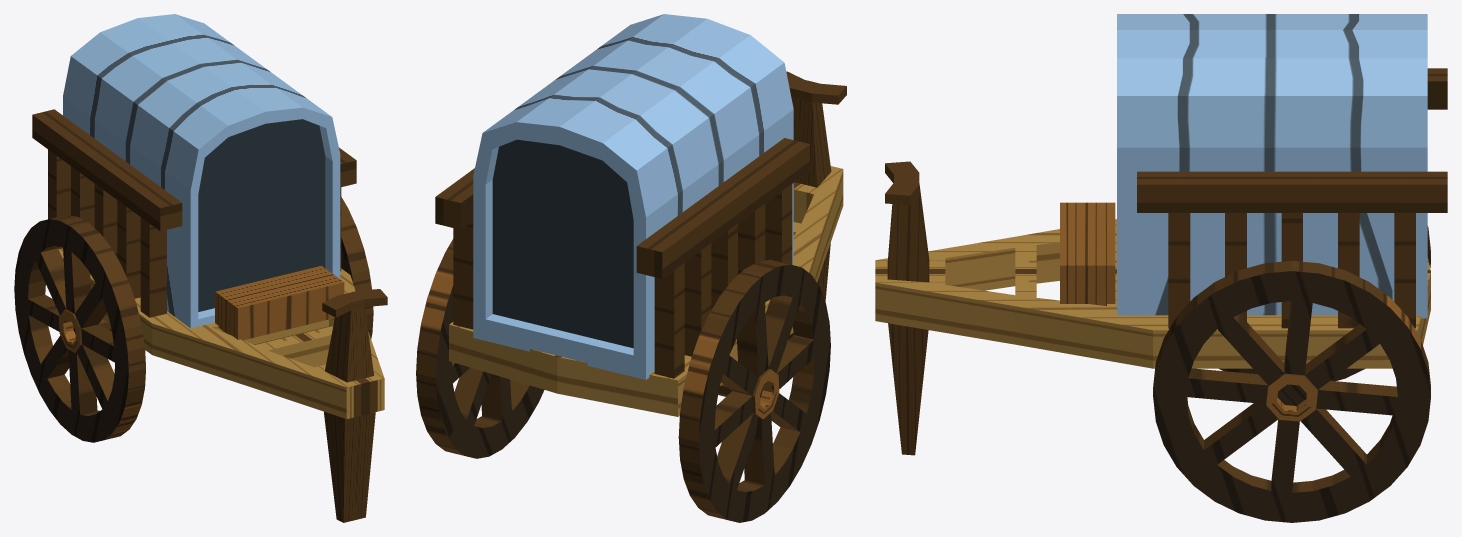
Rendered from Car2.fbx.
3 views of the same model, side by side, from view 1: azimuth 30°, elevation 25°; view 2: azimuth 150°, elevation 25°; view 3: azimuth 270°, elevation 25° (orthographic). The views are drawn at different scales.
Parts seen in each view (by area): view 1: loof, Wheel, Chassis, Chassis-Top, Cube; view 2: loof, Wheel, Chassis-Top, Chassis; view 3: loof, Wheel, Chassis, Chassis-Top, Cube.
Part boxes in pixels (x1,y1,x2,y2): loof: [63, 14, 340, 328]; Wheel: [14, 197, 373, 442]; Chassis: [58, 248, 387, 522]; Chassis-Top: [32, 109, 356, 317]; Cube: [215, 265, 344, 340]; loof: [473, 14, 793, 379]; Wheel: [416, 239, 830, 522]; Chassis-Top: [435, 138, 809, 378]; Chassis: [449, 71, 846, 416]; loof: [1117, 14, 1427, 318]; Wheel: [1153, 226, 1430, 522]; Chassis: [875, 161, 1430, 455]; Chassis-Top: [1137, 68, 1447, 328]; Cube: [1060, 202, 1115, 305].
Bounding box in the file's own units: 251 × 333 × 412.
Materials: 5 (5 with a texture image).
